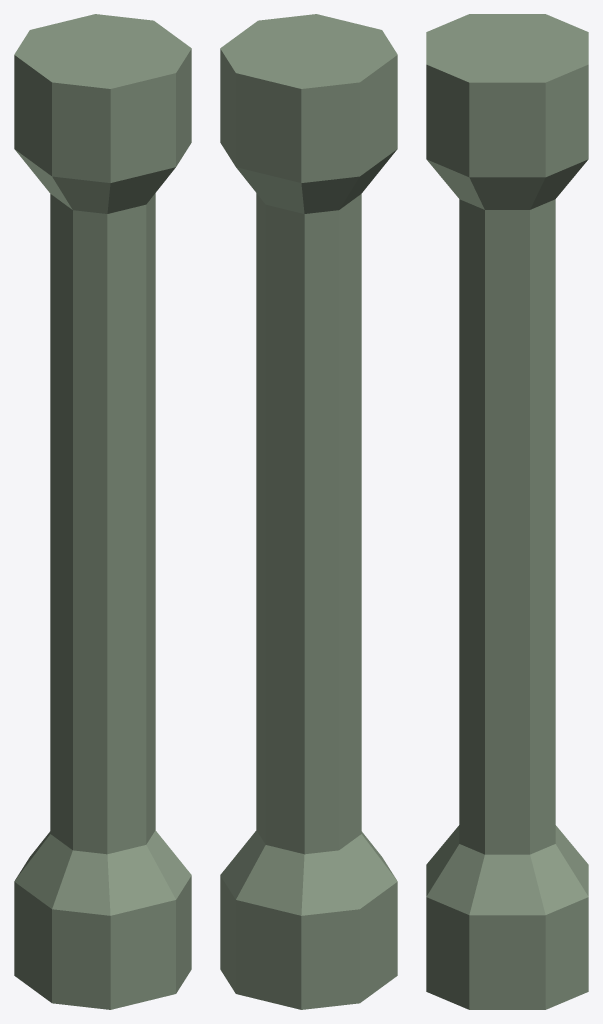
The model's file is pillar_01_1x12x1.gltf.
The picture shows the model from 3 angles, left to right: view 1: azimuth 30°, elevation 25°; view 2: azimuth 150°, elevation 25°; view 3: azimuth 270°, elevation 25°; orthographic projection.
Parts seen in each view (by area): view 1: pillar_01_1x12x1; view 2: pillar_01_1x12x1; view 3: pillar_01_1x12x1.
Boxes of the visible parts, box(x1,y1,x2,y2) form: pillar_01_1x12x1: box(14, 14, 191, 1009); pillar_01_1x12x1: box(220, 14, 397, 1009); pillar_01_1x12x1: box(426, 14, 588, 1009).
Bounding box in the file's own units: 2 × 12.6 × 2.
